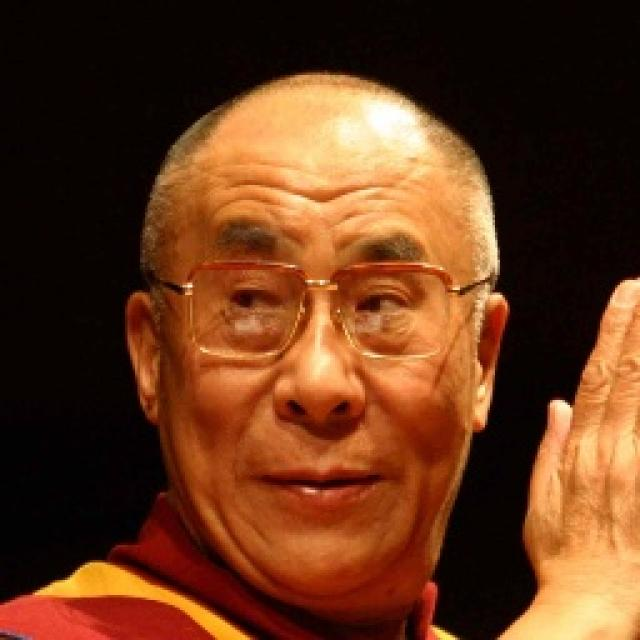earlobe: (468, 403, 492, 432), (140, 392, 161, 424)
eye: (351, 287, 415, 324), (221, 277, 285, 313)
nose: (281, 404, 364, 456)
wholeear: (470, 291, 510, 433), (124, 290, 158, 424)
